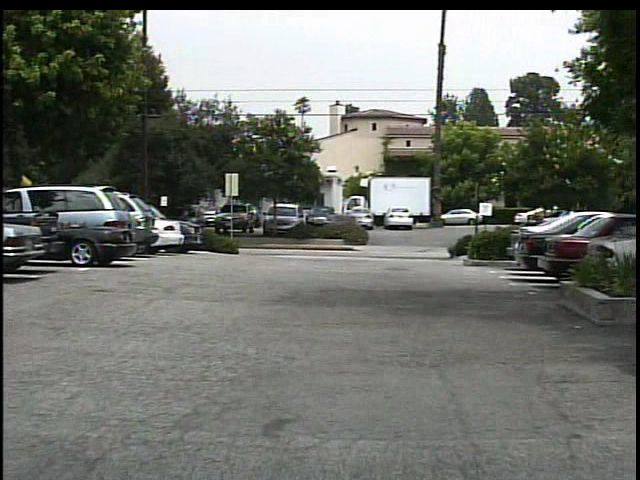person: (176, 207, 196, 245)
